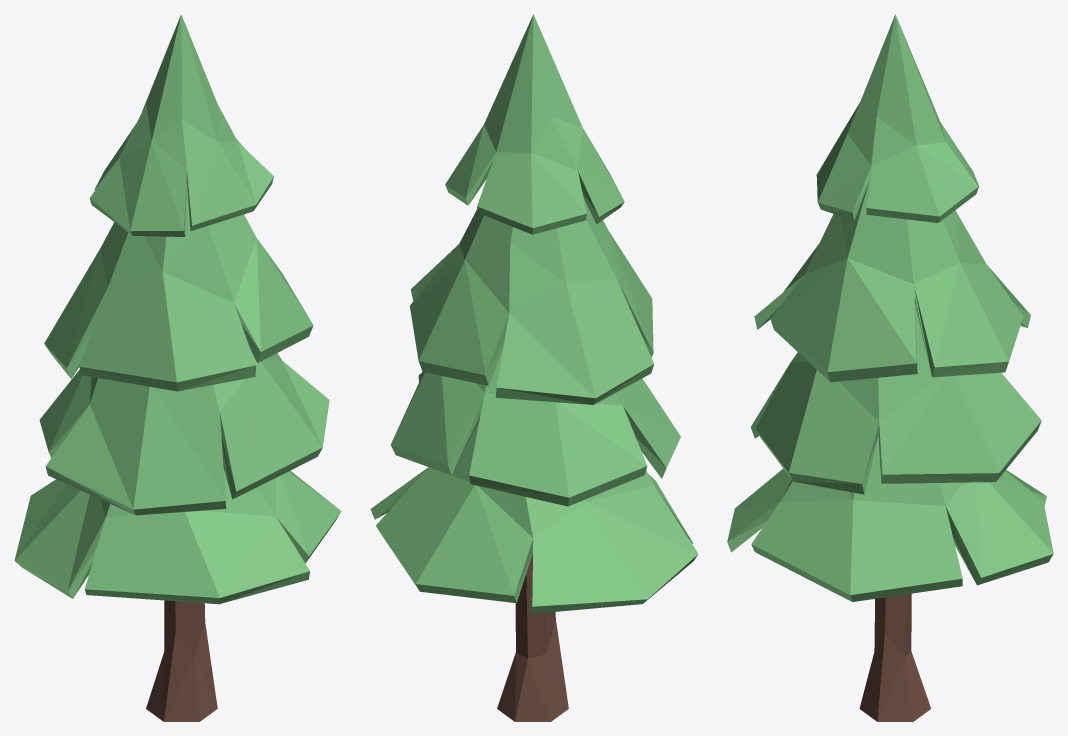
Rendered from Tree_067.glb.
The picture shows the model from 3 angles, left to right: view 1: azimuth 30°, elevation 25°; view 2: azimuth 150°, elevation 25°; view 3: azimuth 270°, elevation 25°; orthographic projection.
Visible parts, largest first — view 1: Tree_067; view 2: Tree_067; view 3: Tree_067.
Part boxes in pixels (x1=…): Tree_067: x1=14, y1=14, x2=341, y2=721; Tree_067: x1=370, y1=14, x2=698, y2=721; Tree_067: x1=727, y1=14, x2=1053, y2=721.
Size of the model in its own units: 6.09 by 14.53 by 6.19.
1 material, 1 textured.
